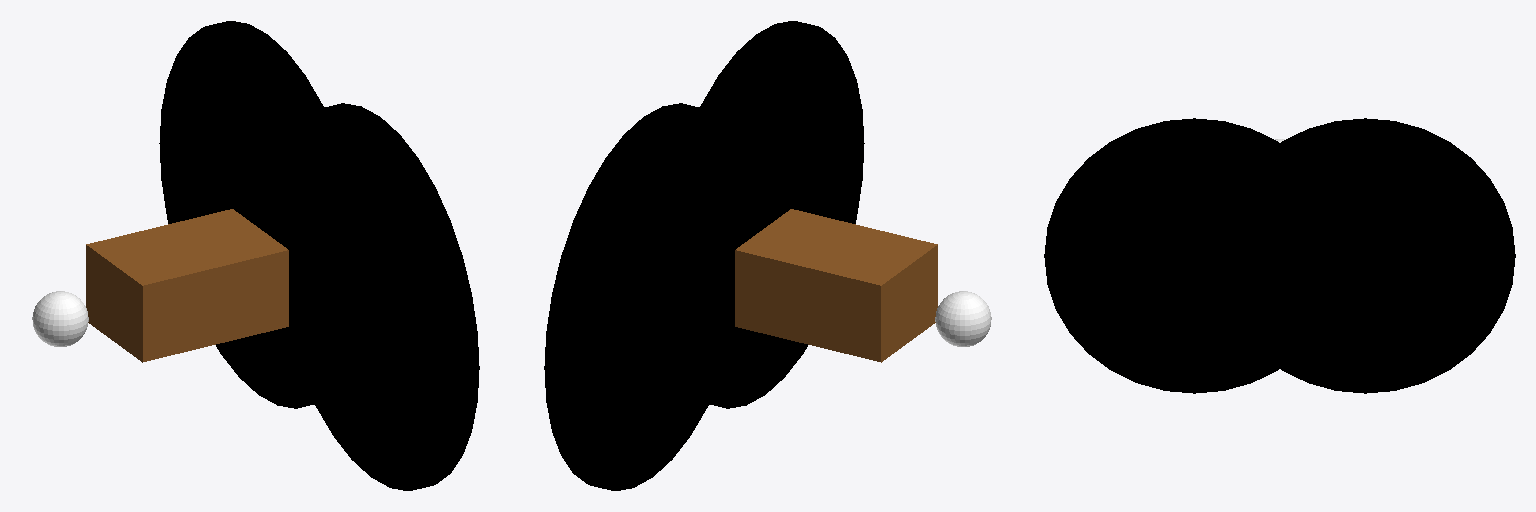
The robot description file, URDF, robot "my_robot":
<?xml version="1.0"?>
<robot name="my_robot">

  <!-- Base of the robot (wooden box) -->
  <link name="base_link">
    <visual>
      <origin xyz="0 0 0.075"/> <!-- Höhe des Robots ist 15 cm, Mittelpunkt ist auf 7,5 cm -->
      <geometry>
        <box size="0.30 0.20 0.15"/> <!-- Länge: 30 cm, Breite: 20 cm, Höhe: 15 cm -->
      </geometry>
      <material name="wood">
        <color rgba="0.6 0.4 0.2 1.0"/> <!-- Holzfarbe -->
      </material>
    </visual>
    <collision>
      <origin xyz="0 0 0.075"/>
      <geometry>
        <box size="0.30 0.20 0.15"/>
      </geometry>
    </collision>
  </link>

  <gazebo reference="base_link">
    <visual>
      <material>
        <ambient>0.4 0.2 0.1 1</ambient> <!-- Rötlich-braun im Umgebungslicht -->
        <diffuse>0.6 0.3 0.2 1</diffuse> <!-- Hellbraun im Licht -->
        <specular>0.1 0.1 0.1 1</specular> <!-- Wenig Glanz -->
        <emissive>0.0 0.0 0.0 1</emissive> <!-- Keine Eigenleuchtung -->
      </material>
    </visual>
  </gazebo>

  <!-- Right wheel -->
  <link name="right_wheel">
    <visual>
      <origin xyz="0.135 -0.10 0.035" rpy="0 1.5708 0"/> <!-- 6.5 cm vom Ende, rechts -->
      <geometry>
        <cylinder radius="0.35" length="0.02"/> <!-- Durchmesser 70 cm = Radius 0.35 m, Dicke 2 cm -->
      </geometry>
      <material name="black">
        <color rgba="0 0 0 1.0"/> <!-- Schwarz für die Räder -->
      </material>
    </visual>
    <collision>
      <origin xyz="0.135 -0.10 0.035" rpy="0 1.5708 0"/>
      <geometry>
        <cylinder radius="0.35" length="0.02"/>
      </geometry>
    </collision>
  </link>

  <gazebo reference="right_wheel">
    <visual>
      <material>
        <ambient>0.1 0.1 0.1 1</ambient> <!-- Dunkleres Grau im Umgebungslicht -->
        <diffuse>0 0 0 1</diffuse> <!-- Schwarz im Licht -->
        <specular>0.1 0.1 0.1 1</specular> <!-- Wenig Glanz -->
        <emissive>0.0 0.0 0.0 1</emissive> <!-- Keine Eigenleuchtung -->
      </material>
    </visual>
  </gazebo>

  <!-- Left wheel -->
  <link name="left_wheel">
    <visual>
      <origin xyz="0.135 0.10 0.035" rpy="0 1.5708 0"/> <!-- 6.5 cm vom Ende, links -->
      <geometry>
        <cylinder radius="0.35" length="0.02"/> <!-- Durchmesser 70 cm = Radius 0.35 m, Dicke 2 cm -->
      </geometry>
      <material name="black">
        <color rgba="0 0 0 1.0"/> <!-- Schwarz für die Räder -->
      </material>
    </visual>
    <collision>
      <origin xyz="0.135 0.10 0.035" rpy="0 1.5708 0"/>
      <geometry>
        <cylinder radius="0.35" length="0.02"/>
      </geometry>
    </collision>
  </link>

  <gazebo reference="left_wheel">
    <visual>
      <material>
        <ambient>0.1 0.1 0.1 1</ambient> <!-- Dunkleres Grau im Umgebungslicht -->
        <diffuse>0 0 0 1</diffuse> <!-- Schwarz im Licht -->
        <specular>0.1 0.1 0.1 1</specular> <!-- Wenig Glanz -->
        <emissive>0.0 0.0 0.0 1</emissive> <!-- Keine Eigenleuchtung -->
      </material>
    </visual>
  </gazebo>

  <!-- Front ball -->
  <link name="front_ball">
    <visual>
      <origin xyz="-0.13 0 0.035"/> <!-- Vorne, in der Mitte -->
      <geometry>
        <sphere radius="0.05"/> <!-- Kugelradius 5 cm -->
      </geometry>
      <material name="white">
        <color rgba="1 1 1 1.0"/> <!-- Weiß für die Kugel -->
      </material>
    </visual>
    <collision>
      <origin xyz="-0.13 0 0.035"/>
      <geometry>
        <sphere radius="0.05"/>
      </geometry>
    </collision>
  </link>

  <gazebo reference="front_ball">
    <visual>
      <material>
        <ambient>0.9 0.9 0.9 1</ambient> <!-- Helles Grau im Umgebungslicht -->
        <diffuse>1 1 1 1</diffuse> <!-- Weiß im Licht -->
        <specular>0.1 0.1 0.1 1</specular> <!-- Wenig Glanz -->
        <emissive>0.0 0.0 0.0 1</emissive> <!-- Keine Eigenleuchtung -->
      </material>
    </visual>
  </gazebo>

  <!-- Joint between base_link and right wheel -->
  <joint name="right_wheel_joint" type="continuous">
    <parent link="base_link"/>
    <child link="right_wheel"/>
    <origin xyz="0.135 -0.10 0.035" rpy="0 0 0"/>
    <axis xyz="0 0 1"/>
  </joint>

  <!-- Joint between base_link and left wheel -->
  <joint name="left_wheel_joint" type="continuous">
    <parent link="base_link"/>
    <child link="left_wheel"/>
    <origin xyz="0.135 0.10 0.035" rpy="0 0 0"/>
    <axis xyz="0 0 1"/>
  </joint>

  <!-- Joint between base_link and front ball -->
  <joint name="front_ball_joint" type="fixed">
    <parent link="base_link"/>
    <child link="front_ball"/>
    <origin xyz="-0.13 0 0.035" rpy="0 0 0"/>
  </joint>

  <!-- Gazebo plugin for joint_state_publisher -->
  <gazebo>
    <plugin filename="gz-sim-joint-state-publisher-system" name="gz::sim::systems::JointStatePublisher">
      <joint_name>right_wheel_joint</joint_name>
      <joint_name>left_wheel_joint</joint_name>
      <joint_name>front_ball_joint</joint_name>
      <topic>joint_states</topic>
      <update_rate>30</update_rate>
    </plugin>
  </gazebo>

</robot>

--- What the picture shows (computed from the rendered views, not written in the file) ---
The picture shows the robot from 3 angles, left to right: view 1: azimuth 30°, elevation 25°; view 2: azimuth 150°, elevation 25°; view 3: azimuth 270°, elevation 25°; orthographic projection.
Model my_robot with 4 links and 3 joints (2 continuous, 1 fixed), rooted at base_link, posed every joint at zero.
Links seen in each view (by area): view 1: right_wheel, left_wheel, base_link, front_ball; view 2: left_wheel, right_wheel, base_link, front_ball; view 3: right_wheel, left_wheel.
Link boxes in pixels (x1,y1,x2,y2): right_wheel: [272, 103, 479, 490]; left_wheel: [159, 21, 356, 408]; base_link: [86, 209, 288, 362]; front_ball: [32, 291, 88, 346]; left_wheel: [544, 103, 751, 490]; right_wheel: [667, 21, 864, 408]; base_link: [735, 209, 937, 362]; front_ball: [935, 291, 991, 346]; right_wheel: [1044, 118, 1343, 393]; left_wheel: [1216, 118, 1515, 393].
Size in the robot's own frame: 0.59 by 1.1 by 0.7 metres.
Geometry: primitives only (box / cylinder / sphere), no mesh files.